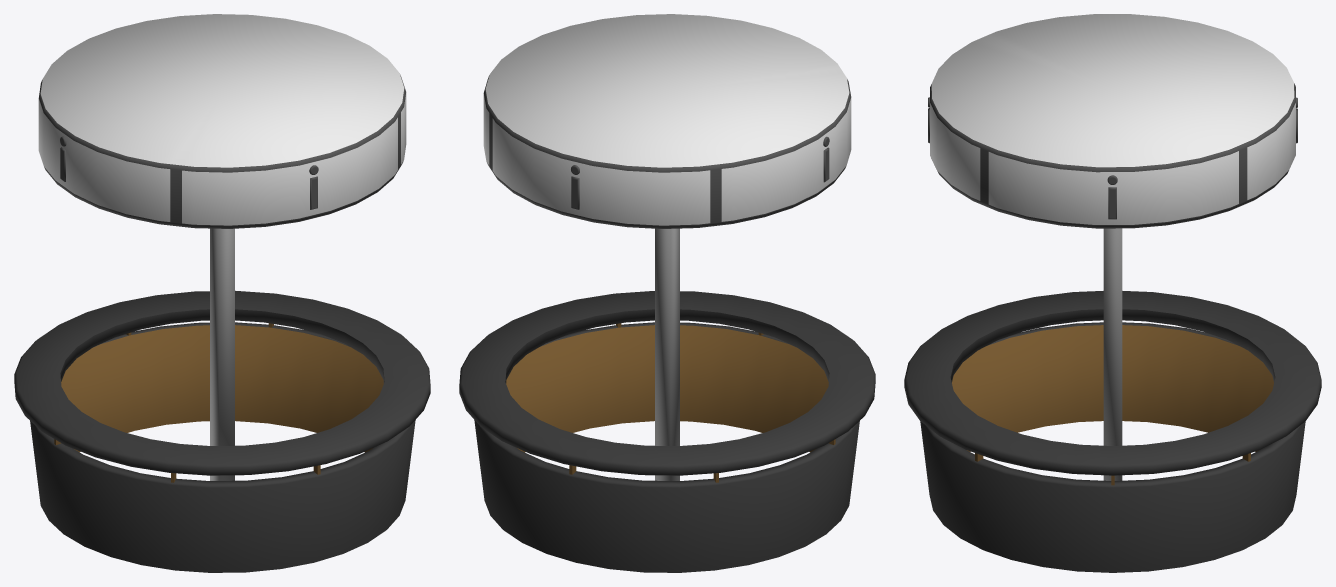
File: infodesk.fbx
3 renders of one model, left to right at view 1: azimuth 30°, elevation 25°; view 2: azimuth 150°, elevation 25°; view 3: azimuth 270°, elevation 25°, orthographic.
Parts seen in each view (by area): view 1: Circle, Circle.001; view 2: Circle, Circle.001; view 3: Circle, Circle.001.
Part boxes in pixels (x1,y1,x2,y2): Circle: (14,290,430,572); Circle.001: (38,14,406,480); Circle: (459,291,875,572); Circle.001: (483,14,851,480); Circle: (904,291,1321,572); Circle.001: (928,14,1297,480).
Size of the model in its own units: 455 by 487 by 455.
